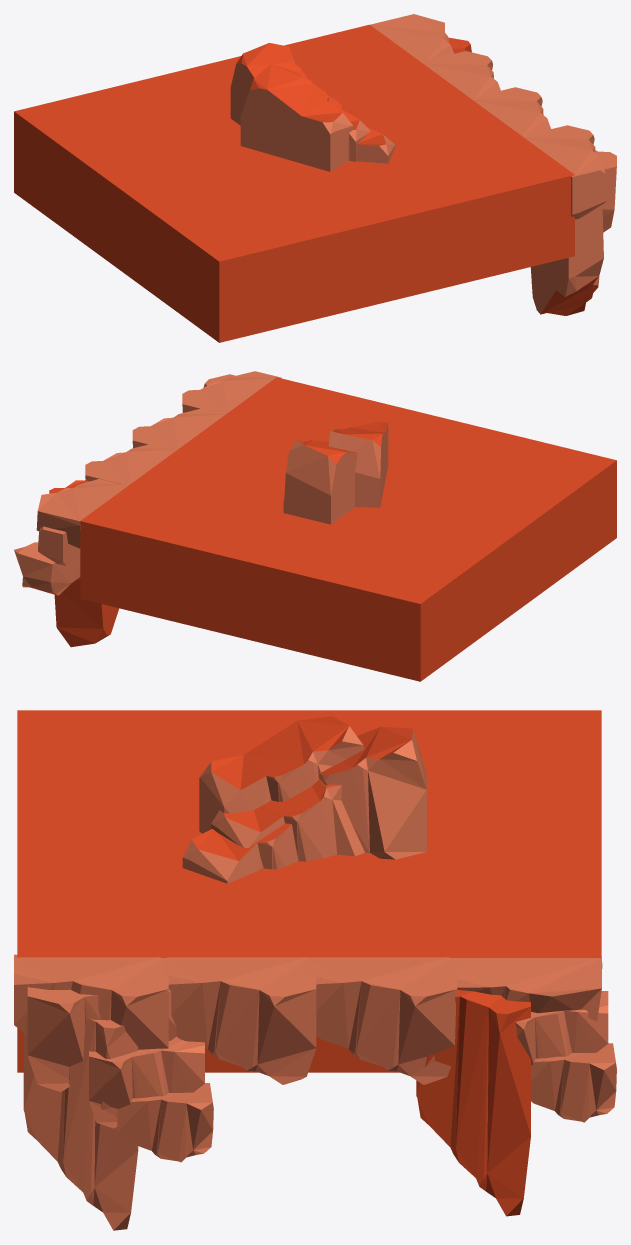
The model's file is Field0.FBX.
3 renders of one model, top to bottom at view 1: azimuth 30°, elevation 25°; view 2: azimuth 150°, elevation 25°; view 3: azimuth 270°, elevation 25°, orthographic. The views are drawn at different scales.
Parts seen in each view (by area): view 1: Plane.005, Rock.004, Rock.001, Rock.003, Rock.002; view 2: Plane.005, Rock.001, Rock.004; view 3: Plane.005, Rock.001, Rock.004, Rock.002, Rock.003.
Boxes of the visible parts, box(x1,y1,x2,y2) form: Plane.005: box(14, 14, 616, 342); Rock.004: box(240, 63, 353, 171); Rock.001: box(230, 43, 307, 125); Rock.003: box(348, 117, 395, 163); Rock.002: box(327, 95, 369, 161); Plane.005: box(14, 371, 616, 681); Rock.001: box(283, 440, 357, 524); Rock.004: box(328, 422, 388, 507); Plane.005: box(14, 710, 616, 1230); Rock.001: box(318, 726, 426, 859); Rock.004: box(199, 716, 364, 833); Rock.002: box(211, 779, 364, 868); Rock.003: box(182, 823, 298, 883).
Size of the model in its own units: 488 by 423 by 273.
